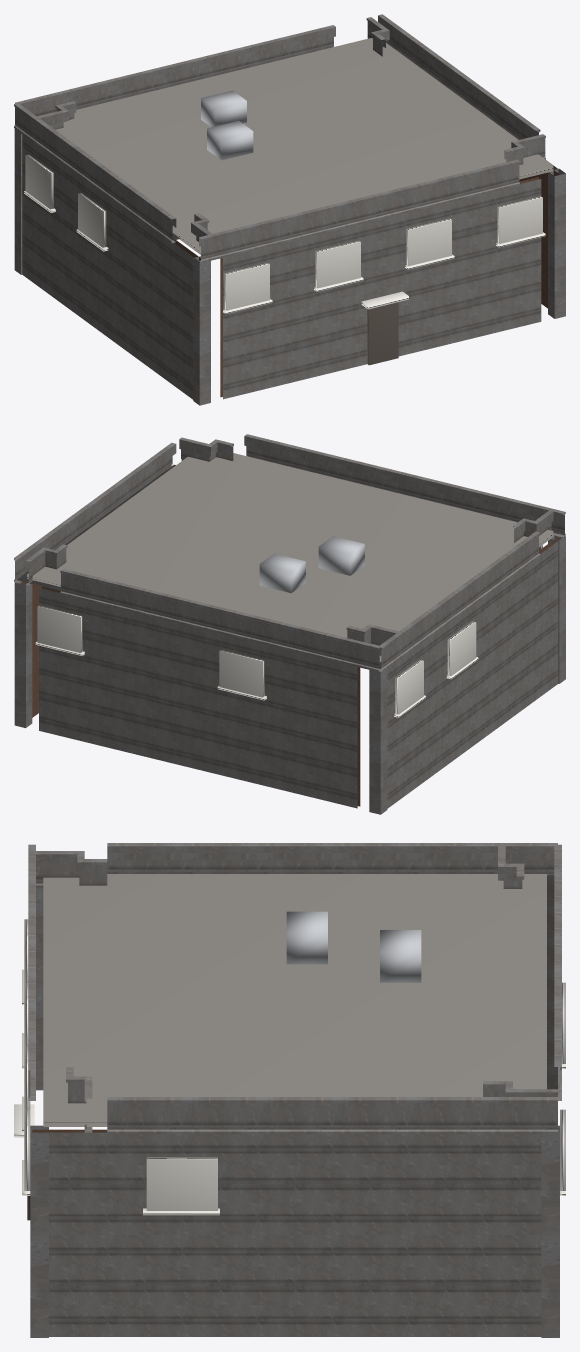
Rendered from b_ware1.gltf.
3 views of the same model, one above another, from view 1: azimuth 30°, elevation 25°; view 2: azimuth 150°, elevation 25°; view 3: azimuth 270°, elevation 25° (orthographic). The views are drawn at different scales.
Visible parts, largest first — view 1: b_ware1; view 2: b_ware1; view 3: b_ware1.
Part boxes in pixels (box(x1,y1,x2,y2)): b_ware1: box(14, 14, 565, 405); b_ware1: box(14, 434, 565, 814); b_ware1: box(14, 843, 565, 1337).
Size of the model in its own units: 16.48 by 7.3 by 14.7.
9 materials, 3 textured.
